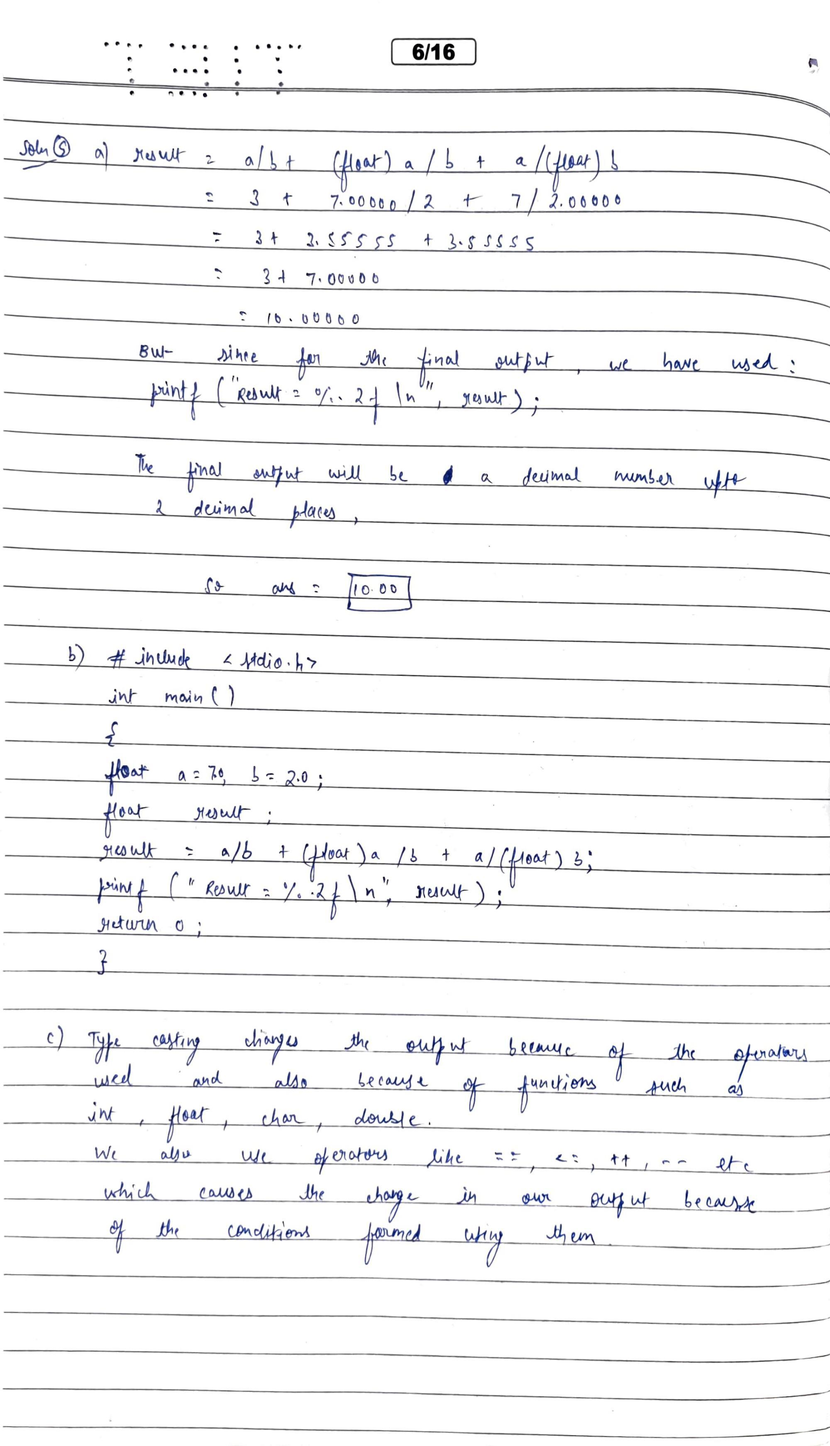cuttings: (441, 462, 455, 486)
